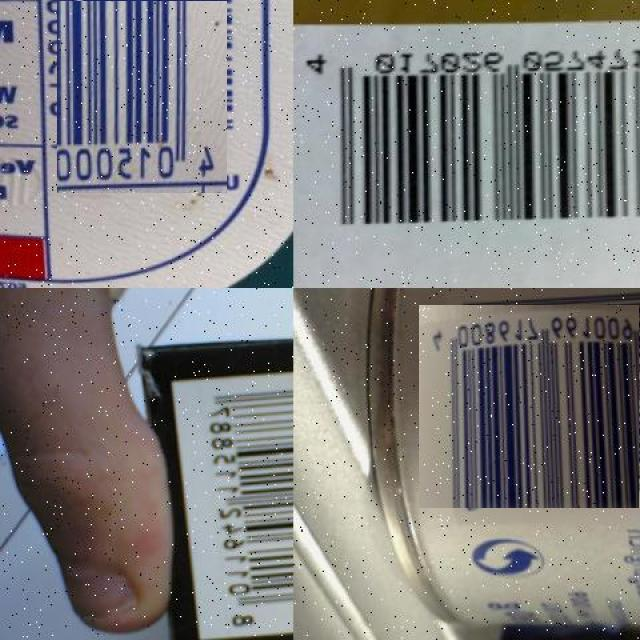Barcode: (293, 28, 640, 240), (427, 297, 640, 517), (45, 0, 238, 182), (171, 369, 293, 640)
